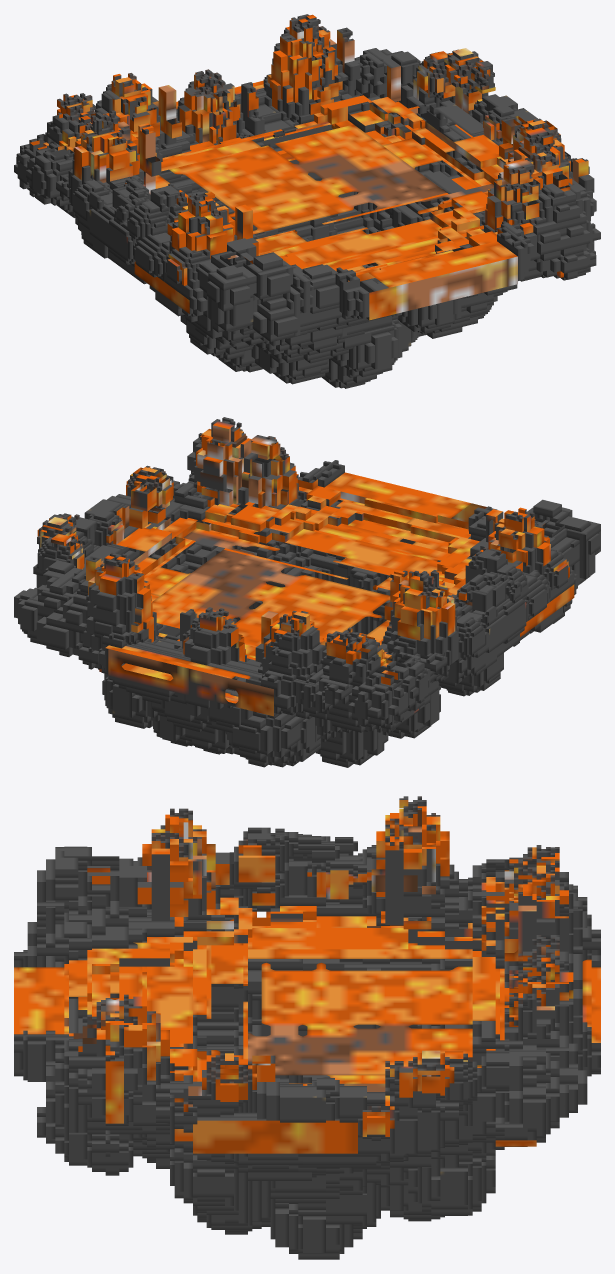
File: FireMap.obj
The picture shows the model from 3 angles, top to bottom: view 1: azimuth 30°, elevation 25°; view 2: azimuth 150°, elevation 25°; view 3: azimuth 270°, elevation 25°; orthographic projection. The views are drawn at different scales.
Visible parts, largest first — view 1: Model; view 2: Model; view 3: Model.
Boxes of the visible parts, x1,y1,x2,y2 form: Model: (14, 14, 600, 388); Model: (14, 417, 600, 767); Model: (14, 796, 600, 1259).
Size of the model in its own units: 32 by 17.48 by 31.51.
